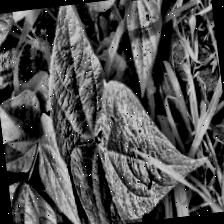ALS: (92, 74, 218, 216), (120, 0, 169, 96), (0, 98, 22, 145), (65, 0, 120, 16)
